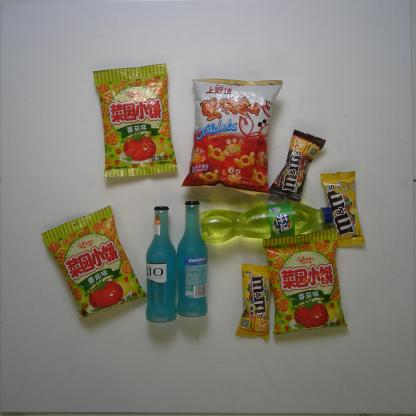Alcohol: (174, 196, 210, 319), (142, 204, 178, 324)
Chocolate: (266, 126, 328, 205), (318, 167, 366, 249), (233, 262, 273, 343)
Drink: (198, 200, 334, 244)
Puffed Food: (39, 203, 150, 320), (179, 76, 286, 197), (90, 61, 181, 180), (262, 226, 350, 336)
